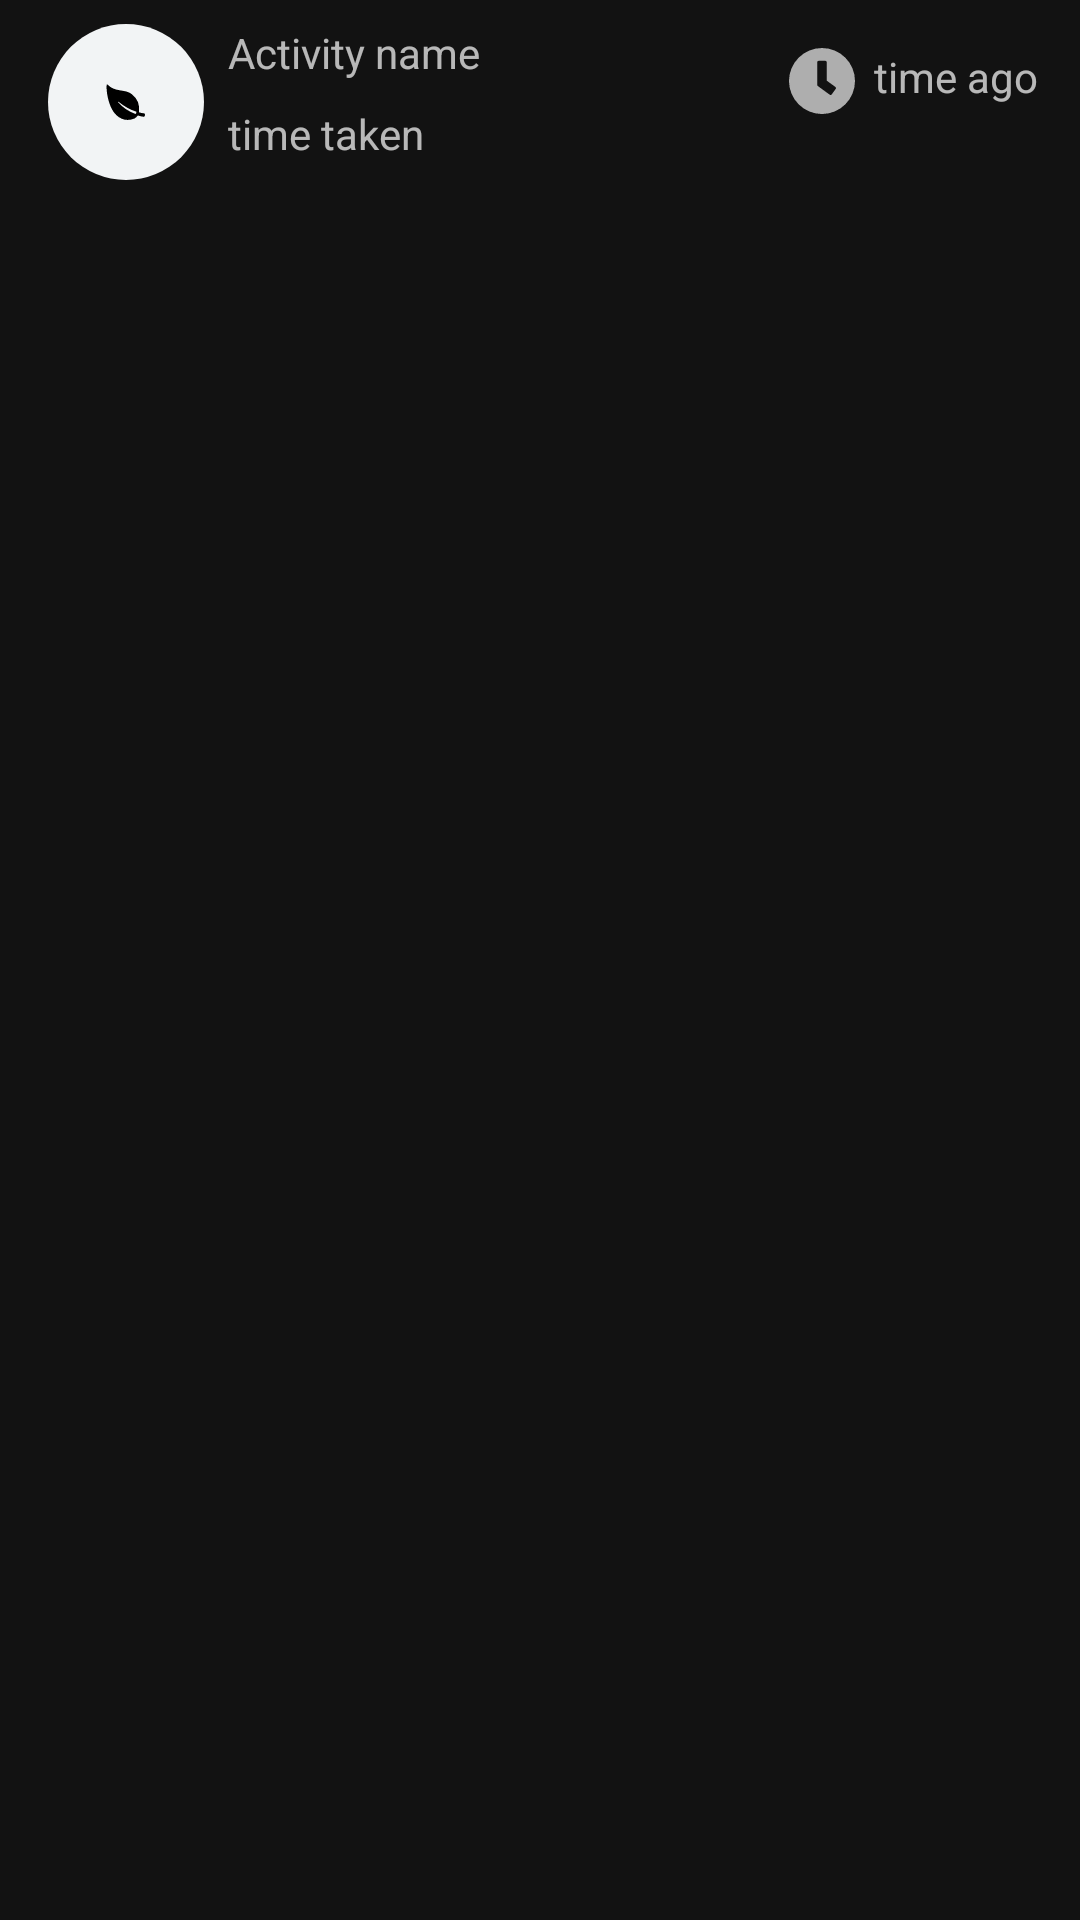

Named icons in this screenshot (1080 × 1920) and their centers, [x,y]:
clock: [822,81]
leaf circle: [126,102]
